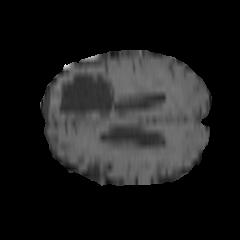glioma: (49, 68, 176, 175)
